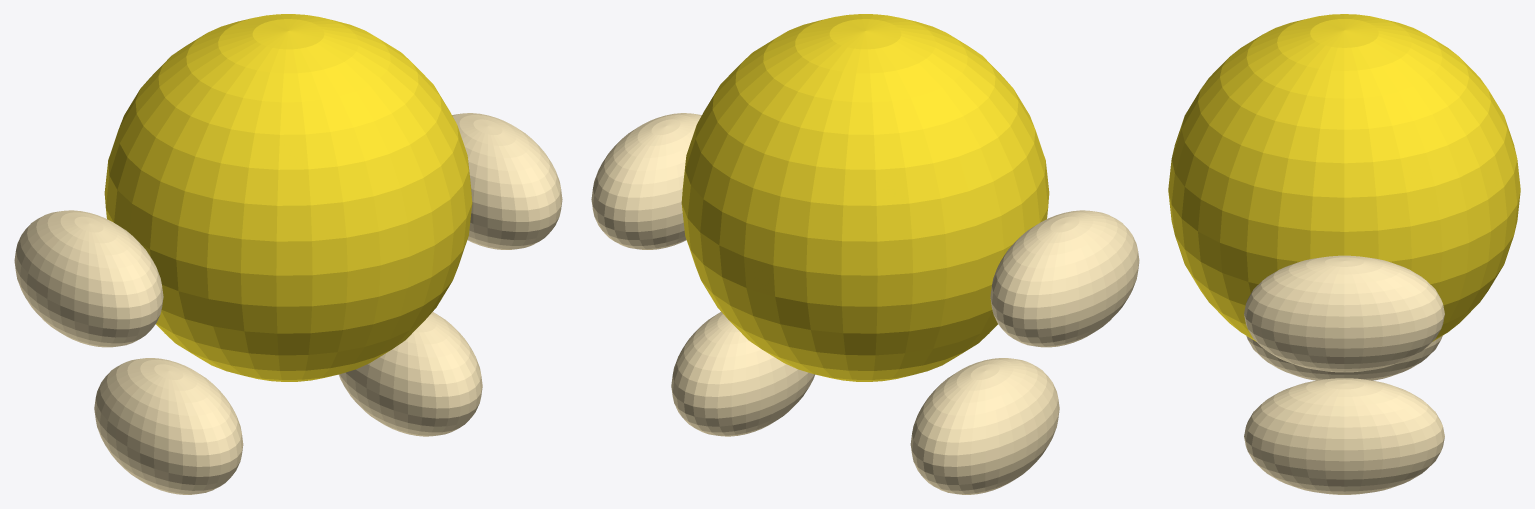
Rendered from blob-v2.glb.
3 views of the same model, side by side, from view 1: azimuth 30°, elevation 25°; view 2: azimuth 150°, elevation 25°; view 3: azimuth 270°, elevation 25° (orthographic). The views are drawn at different scales.
Parts seen in each view (by area): view 1: Body, left_hand, left_leg, right_leg, right_hand; view 2: Body, left_hand, left_leg, right_leg, right_hand; view 3: Body, right_hand, right_leg, left_leg.
Part boxes in pixels (x1,y1,x2,y2): Body: [104, 14, 472, 381]; left_hand: [14, 210, 163, 347]; left_leg: [94, 358, 243, 494]; right_leg: [339, 312, 482, 436]; right_hand: [452, 113, 562, 249]; Body: [681, 14, 1049, 381]; left_hand: [990, 210, 1139, 347]; left_leg: [910, 358, 1059, 494]; right_leg: [671, 312, 814, 436]; right_hand: [591, 113, 701, 249]; Body: [1168, 14, 1520, 341]; right_hand: [1244, 255, 1444, 372]; right_leg: [1244, 378, 1444, 494]; left_leg: [1246, 336, 1442, 380].
Size of the model in its own units: 3.16 by 2.52 by 2.
Materials: 5 (5 with a texture image).
